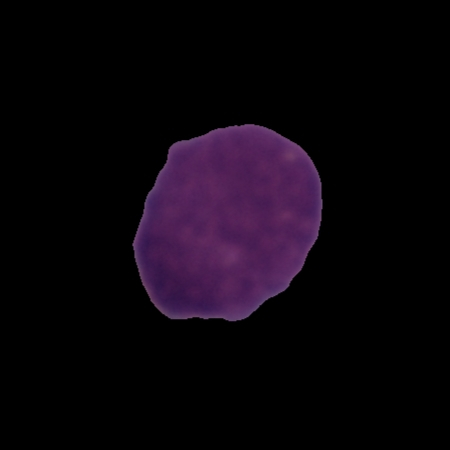HEM: (129, 120, 326, 324)
